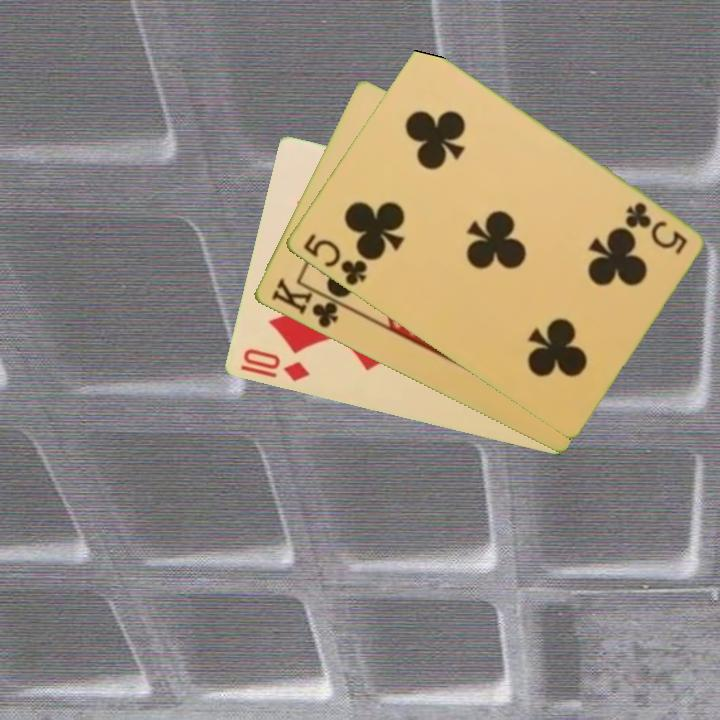10d: (239, 345, 312, 385)
5c: (298, 230, 370, 289), (621, 199, 690, 258)
Kc: (267, 274, 349, 332)
